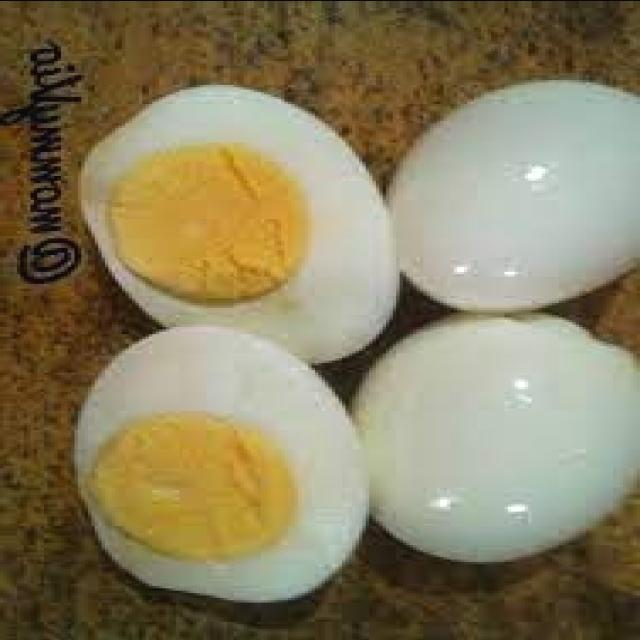telur rebus: (78, 81, 400, 364), (71, 324, 369, 609), (352, 312, 640, 561), (383, 77, 640, 312)
